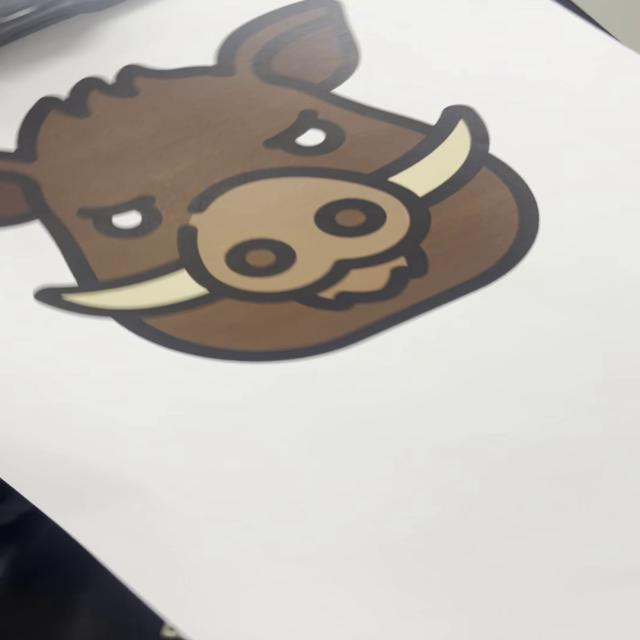animal: (3, 2, 545, 368)
